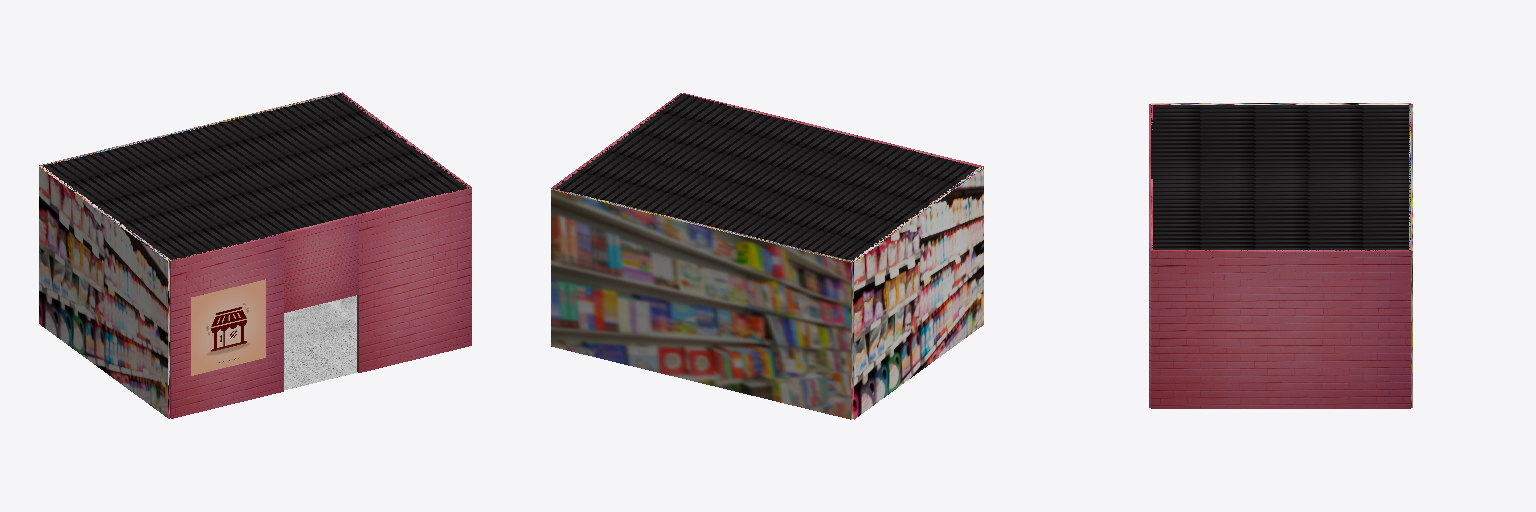
3 renders of one model, left to right at view 1: azimuth 30°, elevation 25°; view 2: azimuth 150°, elevation 25°; view 3: azimuth 270°, elevation 25°, orthographic.
Visible parts, largest first — view 1: techo, paredUno, paredDer, paredIzq, complemento, publicidad, piso; view 2: paredDos, techo, paredUno; view 3: paredTres, techo, paredDos, paredDer.
Part boxes in pixels (x1,y1,x2,y2): techo: (43, 93, 468, 260); paredUno: (39, 166, 171, 418); paredDer: (357, 188, 471, 372); paredIzq: (170, 233, 283, 418); complemento: (283, 215, 358, 312); publicidad: (191, 279, 265, 375); piso: (284, 295, 357, 389); paredDos: (551, 189, 852, 419); techo: (553, 94, 978, 260); paredUno: (851, 167, 983, 419); paredTres: (1151, 250, 1410, 408); techo: (1151, 105, 1410, 250); paredDos: (1409, 104, 1412, 407); paredDer: (1149, 196, 1152, 407).
Bounding box in the file's own units: 81 × 40 × 61.5.
Materials: 6 (6 with a texture image).